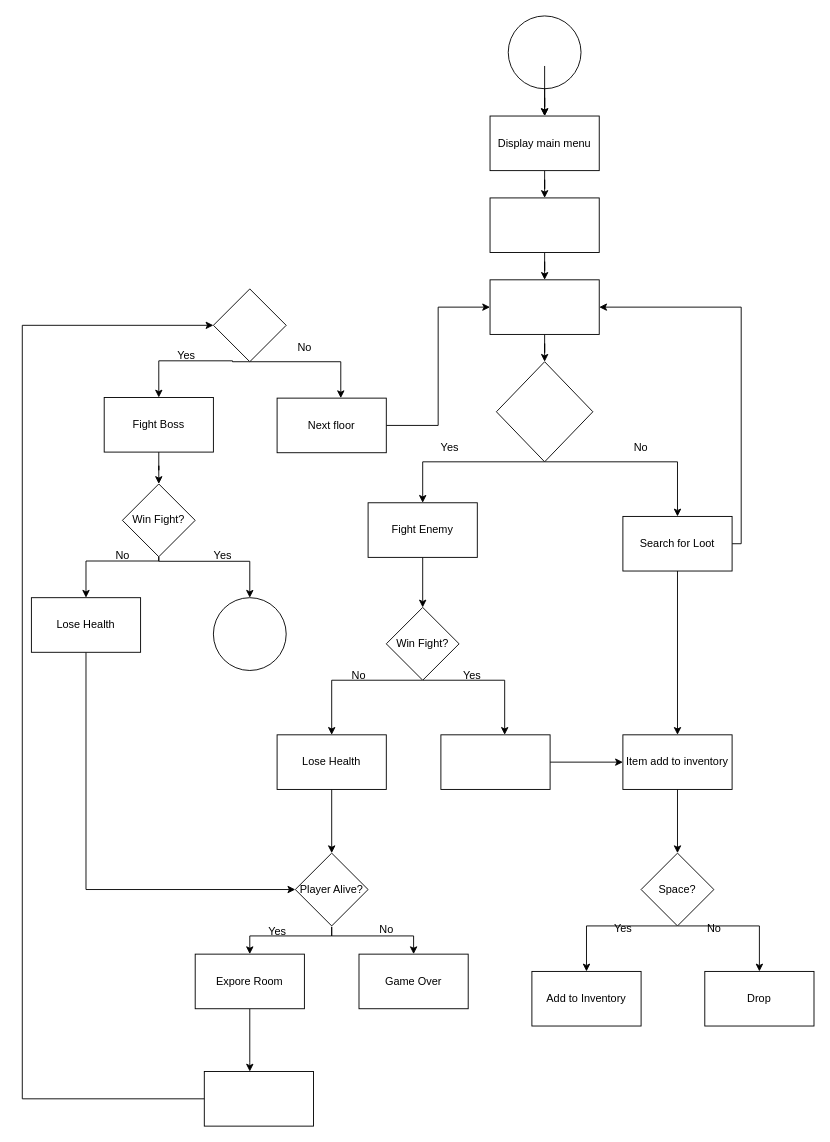
Some shapes in this 830 by 1142 pixel diagram are drawn without their labels. Here are the shapes that lost their labels. From the top down, the centre of each, then its label:
At point (544, 52): "Start".
At point (544, 225): "Start game".
At point (249, 325): "Boss?".
At point (544, 306): "Explore Room".
At point (544, 411): "Enemy Encountered?".
At point (249, 633): "Victory".
At point (495, 761): "Gain Loot".
At point (258, 1098): "Go to next Room".
